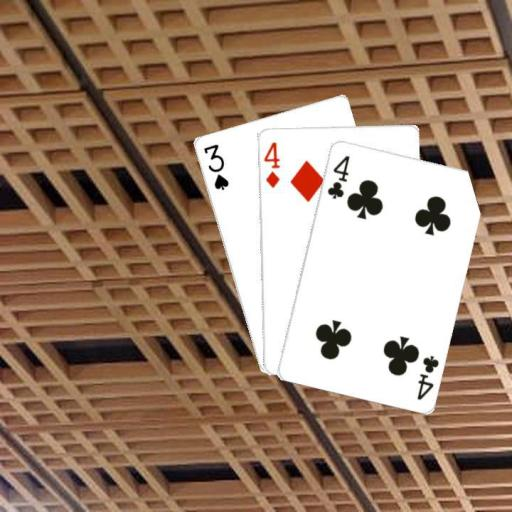3S: (200, 141, 230, 191)
4C: (413, 351, 440, 401), (324, 151, 351, 200)
4D: (261, 138, 281, 188)
